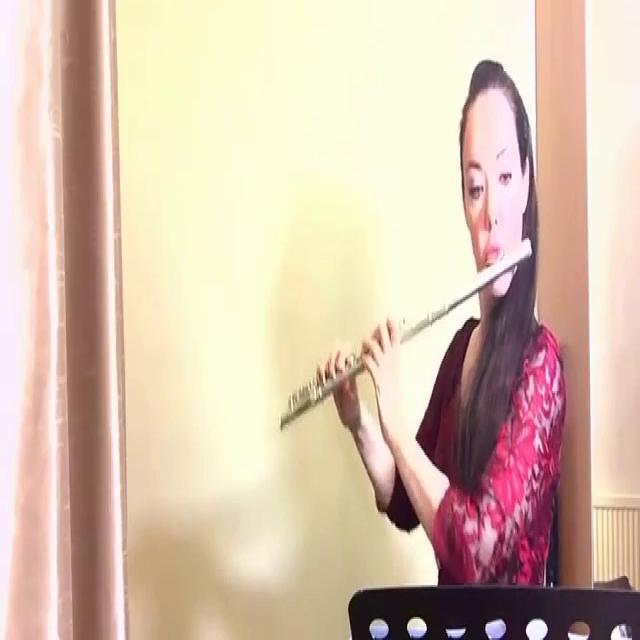Flute: (273, 227, 540, 440)
